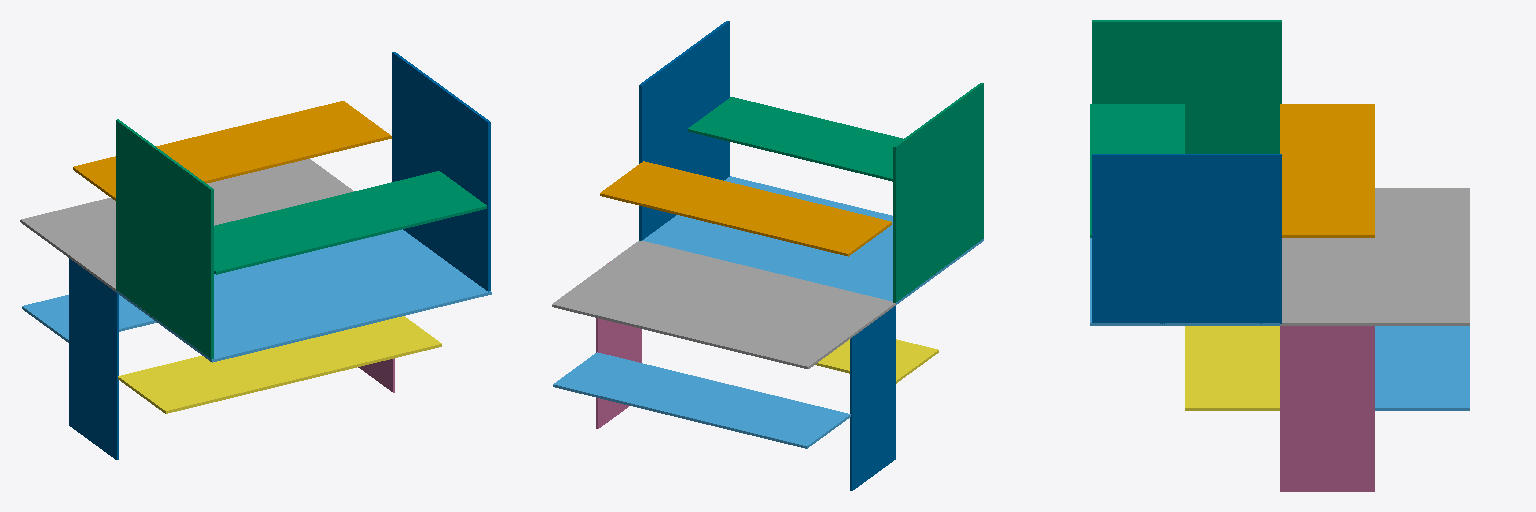
robot.urdf — box:
<?xml version="1.0"?>
<robot name="box">

  <link name="base_link">
    <inertial>
      <origin xyz="0 0 0" rpy="0 0 0"/>
      <mass value="0.001"/>
      <inertia ixx="0.0001" ixy="0.0" ixz="0.0" iyy="0.0001" iyz="0.0" izz="0.0001"/>
    </inertial>
  </link>

  <link name="link_right">
    <visual>   <geometry> <mesh filename="box_base.dae"/> </geometry> </visual> 
    <collision><geometry> <mesh filename="box_base.dae"/> </geometry> </collision>
    <inertial> 
      <origin xyz="0 0 0" rpy="0 0 0"/>
      <mass value="0.1"/> 
      <inertia ixx="0.1" ixy="0" ixz="0" iyy="0.1" iyz="0" izz="0.1"/> 
    </inertial>
  </link>

  <joint name="joint_base_to_right" type="fixed">
    <parent link="base_link"/>
    <child link="link_right"/>
    <origin xyz="0 0 0" rpy="0 0 0"/>
  </joint>

  <link name="link_right_up">
    <visual>   <geometry> <mesh filename="box_right_up.dae"/> </geometry> </visual>
    <collision><geometry> <mesh filename="box_right_up.dae"/> </geometry> </collision>
    <inertial> <mass value="0.01"/> <inertia ixx="0.01" ixy="0" ixz="0" iyy="0.01" iyz="0" izz="0.01"/> </inertial>
  </link>

  <joint name="joint_right_to_up" type="fixed">
    <parent link="link_right"/>
    <child link="link_right_up"/>
    <origin xyz="0 0 0.15" rpy="0 0 0"/> 
  </joint>

  <link name="link_right_down">
    <visual>   <geometry> <mesh filename="box_right_down.dae"/> </geometry> </visual>
    <collision><geometry> <mesh filename="box_right_down.dae"/> </geometry> </collision>
    <inertial> <mass value="0.01"/> <inertia ixx="0.01" ixy="0" ixz="0" iyy="0.01" iyz="0" izz="0.01"/> </inertial>
  </link>

  <joint name="joint_right_to_down" type="fixed">
    <parent link="link_right"/>
    <child link="link_right_down"/>
    <origin xyz="0 0 -0.15" rpy="0 0 0"/> 
  </joint>


  <link name="link_front">
    <visual>   <geometry> <mesh filename="box_front.dae"/> </geometry> </visual>
    <collision><geometry> <mesh filename="box_front.dae"/> </geometry> </collision>
    <inertial> <mass value="0.01"/> <inertia ixx="0.01" ixy="0" ixz="0" iyy="0.01" iyz="0" izz="0.01"/> </inertial>
  </link>

  <joint name="joint_right_to_front" type="fixed">
    <parent link="link_right"/>
    <child link="link_front"/>
    <origin xyz="0.25 0.0025 0" rpy="0 0 0"/> 
  </joint>

  <link name="link_front_up">
    <visual>   <geometry> <mesh filename="box_front_up.dae"/> </geometry> </visual>
    <collision><geometry> <mesh filename="box_front_up.dae"/> </geometry> </collision>
    <inertial> <mass value="0.01"/> <inertia ixx="0.01" ixy="0" ixz="0" iyy="0.01" iyz="0" izz="0.01"/> </inertial>
  </link>

  <joint name="joint_front_to_up" type="fixed">
    <parent link="link_front"/>
    <child link="link_front_up"/>
    <origin xyz="0 0.1475 0.145" rpy="0 0 0"/>
  </joint>

  <link name="link_front_down">
    <visual>   <geometry> <mesh filename="box_front_down.dae"/> </geometry> </visual>
    <collision><geometry> <mesh filename="box_front_down.dae"/> </geometry> </collision>
    <inertial> <mass value="0.01"/> <inertia ixx="0.01" ixy="0" ixz="0" iyy="0.01" iyz="0" izz="0.01"/> </inertial>
  </link>

  <joint name="joint_front_to_down" type="fixed">
    <parent link="link_front"/>
    <child link="link_front_down"/>
    <origin xyz="0 0.1475 -0.145" rpy="0 0 0"/>
  </joint>


  <link name="link_left">
    <visual>   <geometry> <mesh filename="box_left.dae"/> </geometry> </visual>
    <collision><geometry> <mesh filename="box_left.dae"/> </geometry> </collision>
    <inertial> <mass value="0.01"/> <inertia ixx="0.01" ixy="0" ixz="0" iyy="0.01" iyz="0" izz="0.01"/> </inertial>
  </link>

  <joint name="joint_right_to_left" type="fixed">
    <parent link="link_right"/>
    <child link="link_left"/>
    <origin xyz="0.2525 0.3 0" rpy="0 0 0"/> 
  </joint>

  <link name="link_left_up">
    <visual>   <geometry> <mesh filename="box_left_up.dae"/> </geometry> </visual>
    <collision><geometry> <mesh filename="box_left_up.dae"/> </geometry> </collision>
    <inertial> <mass value="0.01"/> <inertia ixx="0.01" ixy="0" ixz="0" iyy="0.01" iyz="0" izz="0.01"/> </inertial>
  </link>

  <joint name="joint_left_to_up" type="fixed">
    <parent link="link_left"/>
    <child link="link_left_up"/>
    <origin xyz="-0.2525 0 0.15" rpy="0 0 0"/>
  </joint>

  <link name="link_left_down">
    <visual>   <geometry> <mesh filename="box_left_down.dae"/> </geometry> </visual>
    <collision><geometry> <mesh filename="box_left_down.dae"/> </geometry> </collision>
    <inertial> <mass value="0.01"/> <inertia ixx="0.01" ixy="0" ixz="0" iyy="0.01" iyz="0" izz="0.01"/> </inertial>
  </link>

  <joint name="joint_left_to_down" type="fixed">
    <parent link="link_left"/>
    <child link="link_left_down"/>
    <origin xyz="-0.2525 0 -0.15" rpy="0 0 0"/>
  </joint>


  <link name="link_back">
    <visual>   <geometry> <mesh filename="box_back.dae"/> </geometry> </visual>
    <collision><geometry> <mesh filename="box_back.dae"/> </geometry> </collision>
    <inertial> <mass value="0.01"/> <inertia ixx="0.01" ixy="0" ixz="0" iyy="0.01" iyz="0" izz="0.01"/> </inertial>
  </link>

  <joint name="joint_right_to_back" type="fixed">
    <parent link="link_right"/>
    <child link="link_back"/>
    <origin xyz="-0.25 0.0025 0" rpy="0 0 0"/> 
  </joint>

  <link name="link_back_up">
    <visual>   <geometry> <mesh filename="box_back_up.dae"/> </geometry> </visual>
    <collision><geometry> <mesh filename="box_back_up.dae"/> </geometry> </collision>
    <inertial> <mass value="0.01"/> <inertia ixx="0.01" ixy="0" ixz="0" iyy="0.01" iyz="0" izz="0.01"/> </inertial>
  </link>

  <joint name="joint_back_to_up" type="fixed">
    <parent link="link_back"/>
    <child link="link_back_up"/>
    <origin xyz="0 0.1475 0.145" rpy="0 0 0"/>
  </joint>

  <link name="link_back_down">
    <visual>   <geometry> <mesh filename="box_back_down.dae"/> </geometry> </visual>
    <collision><geometry> <mesh filename="box_back_down.dae"/> </geometry> </collision>
    <inertial> <mass value="0.01"/> <inertia ixx="0.01" ixy="0" ixz="0" iyy="0.01" iyz="0" izz="0.01"/> </inertial>
  </link>

  <joint name="joint_back_to_down" type="fixed">
    <parent link="link_back"/>
    <child link="link_back_down"/>
    <origin xyz="0 0.1475 -0.145" rpy="0 0 0"/>
  </joint>

</robot>

--- What the picture shows (computed from the rendered views, not written in the file) ---
Views: 3 orthographic renders of the robot side by side, from view 1: azimuth 30°, elevation 25°; view 2: azimuth 150°, elevation 25°; view 3: azimuth 270°, elevation 25°.
Model box with 13 links and 12 joints (12 fixed), rooted at base_link, posed every joint at zero.
Visible links, largest first — view 1: link_right, link_back, link_front, link_right_up, link_right_down, link_left_up, link_left, link_back_down, link_left_down, link_front_down; view 2: link_left, link_back, link_left_down, link_left_up, link_front, link_right, link_right_up, link_back_down, link_front_down, link_right_down; view 3: link_front, link_left, link_back, link_front_down, link_left_up, link_right_down, link_left_down, link_right_up, link_right.
Link boxes in pixels (x1,y1,x2,y2): link_right: (116, 229, 491, 362); link_back: (116, 119, 213, 358); link_front: (392, 52, 490, 291); link_right_up: (214, 171, 486, 274); link_right_down: (118, 316, 441, 413); link_left_up: (73, 101, 391, 200); link_left: (20, 159, 353, 291); link_back_down: (69, 258, 118, 459); link_left_down: (22, 295, 156, 342); link_front_down: (358, 358, 394, 392); link_left: (552, 241, 895, 368); link_back: (893, 83, 983, 302); link_left_down: (553, 352, 850, 448); link_left_up: (600, 161, 891, 256); link_front: (639, 21, 729, 240); link_right: (642, 176, 983, 304); link_right_up: (688, 97, 902, 181); link_back_down: (850, 306, 895, 490); link_front_down: (596, 262, 641, 428); link_right_down: (815, 339, 938, 383); link_front: (1092, 154, 1281, 323); link_left: (1280, 188, 1469, 325); link_back: (1092, 20, 1281, 153); link_front_down: (1280, 326, 1374, 491); link_left_up: (1280, 104, 1374, 237); link_right_down: (1185, 326, 1279, 410); link_left_down: (1375, 326, 1469, 410); link_right_up: (1090, 104, 1184, 237); link_right: (1090, 238, 1279, 325).
Bounding box of the posed robot: 0.505 × 0.6 × 0.5875 m (x, y, z).
Meshes: 12 distinct files referenced, 12 mesh visuals loaded (12 Collada DAE).
